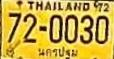0: (94, 14, 108, 44), (64, 14, 77, 43), (49, 14, 62, 42)
2: (23, 12, 36, 42)
3: (79, 14, 93, 43)
7: (8, 12, 20, 42)
NPT: (37, 45, 79, 59)
